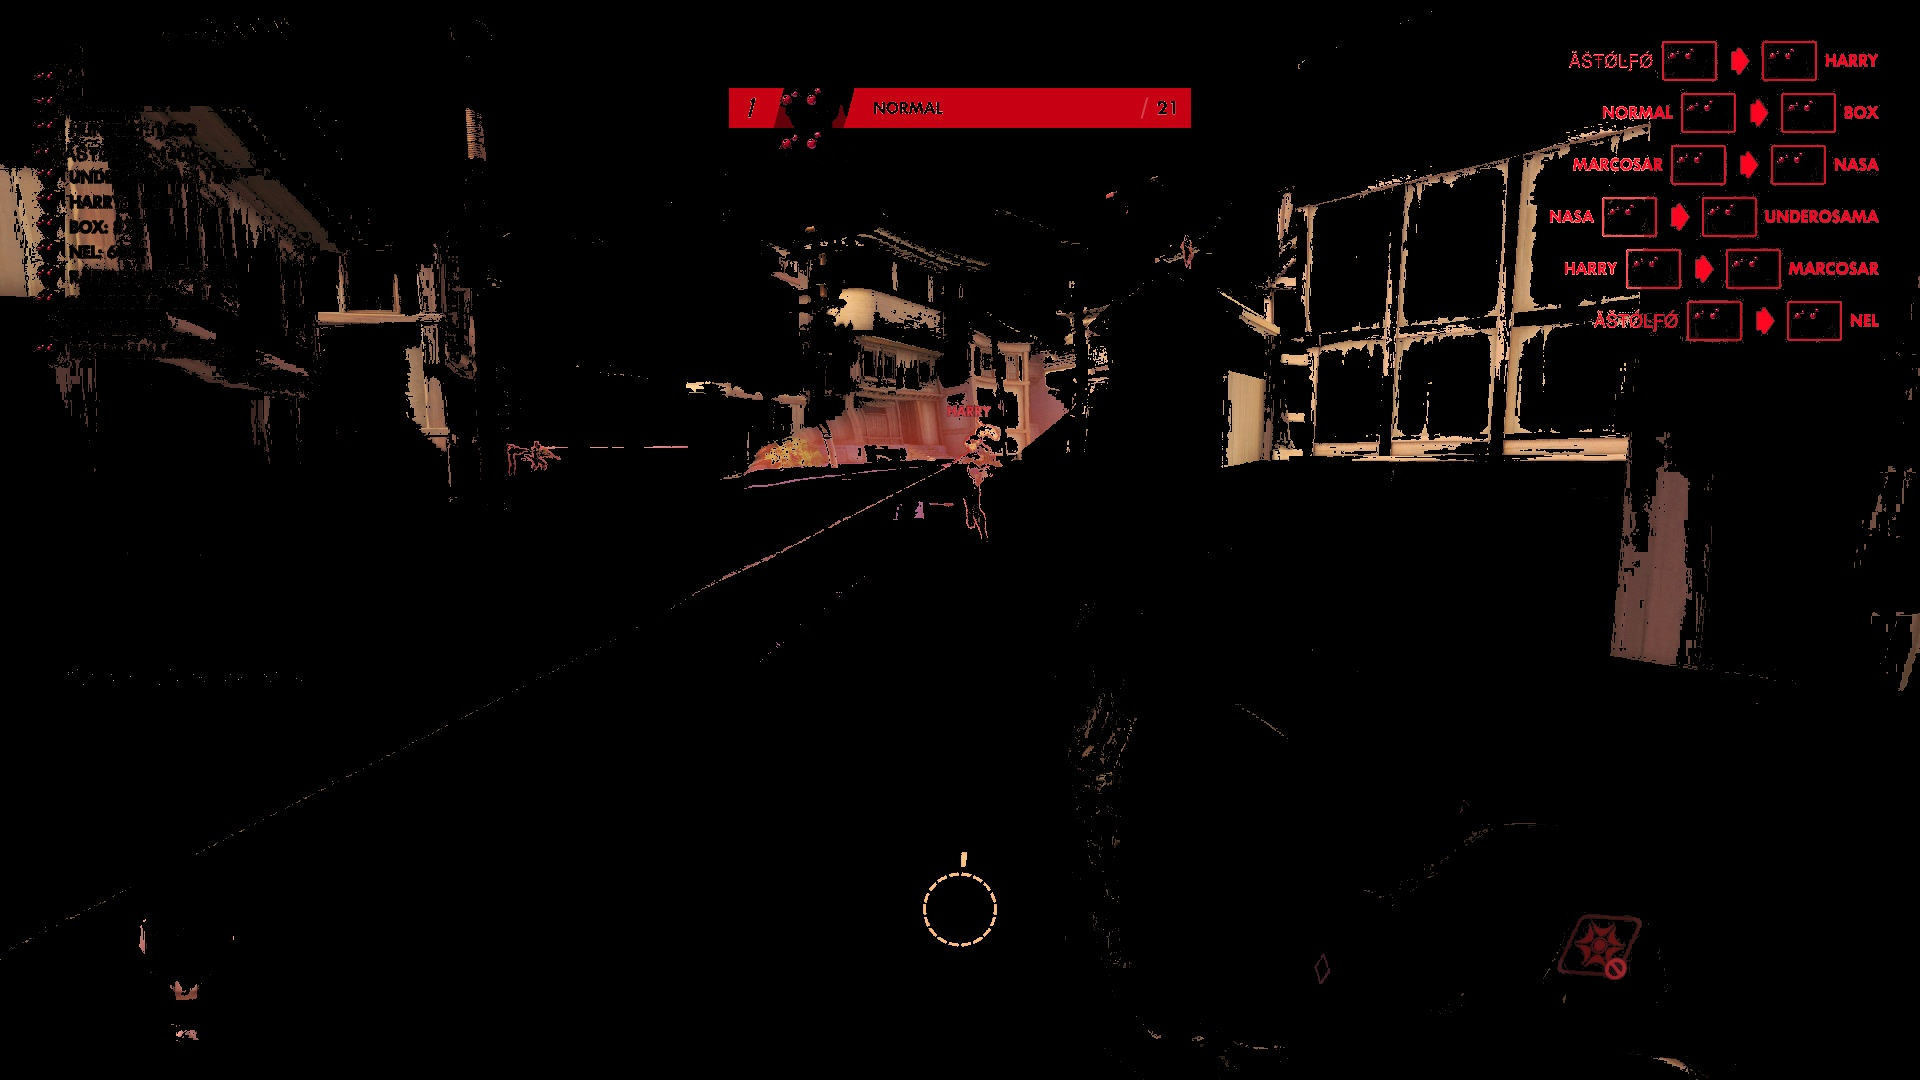widowmaker: (957, 426, 1004, 554), (1176, 229, 1199, 276), (526, 438, 551, 475), (502, 440, 524, 479)
